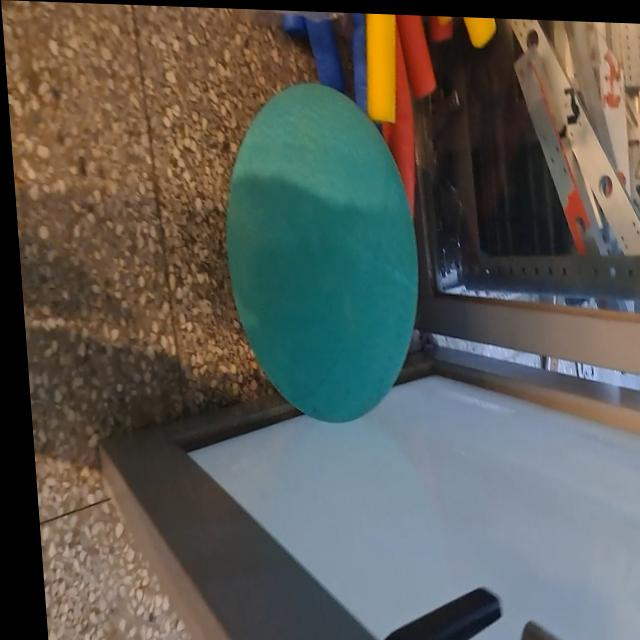ALGAE: (206, 73, 433, 438)
